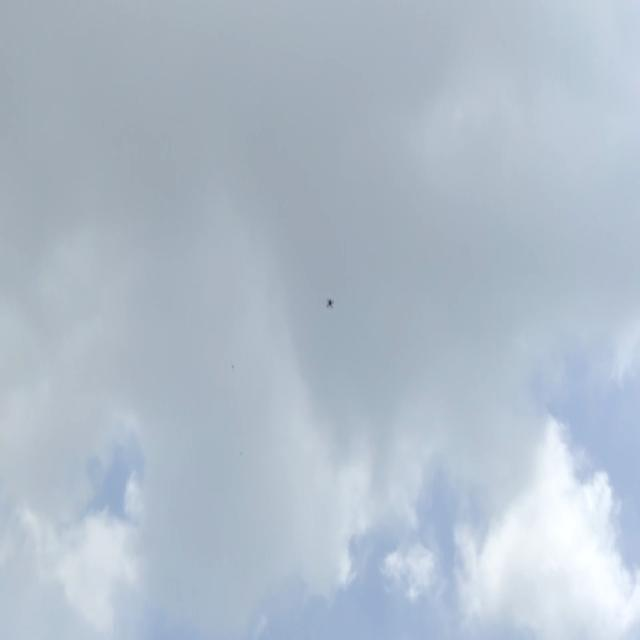drone: (324, 296, 335, 311)
